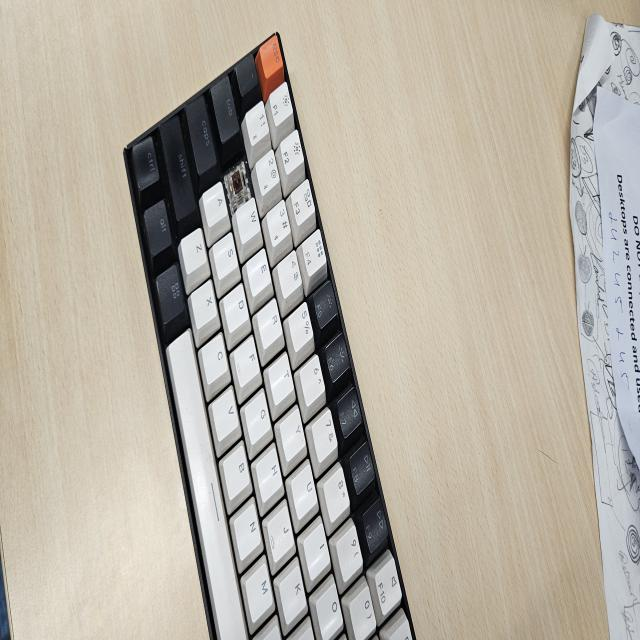C: (226, 160, 250, 202)
